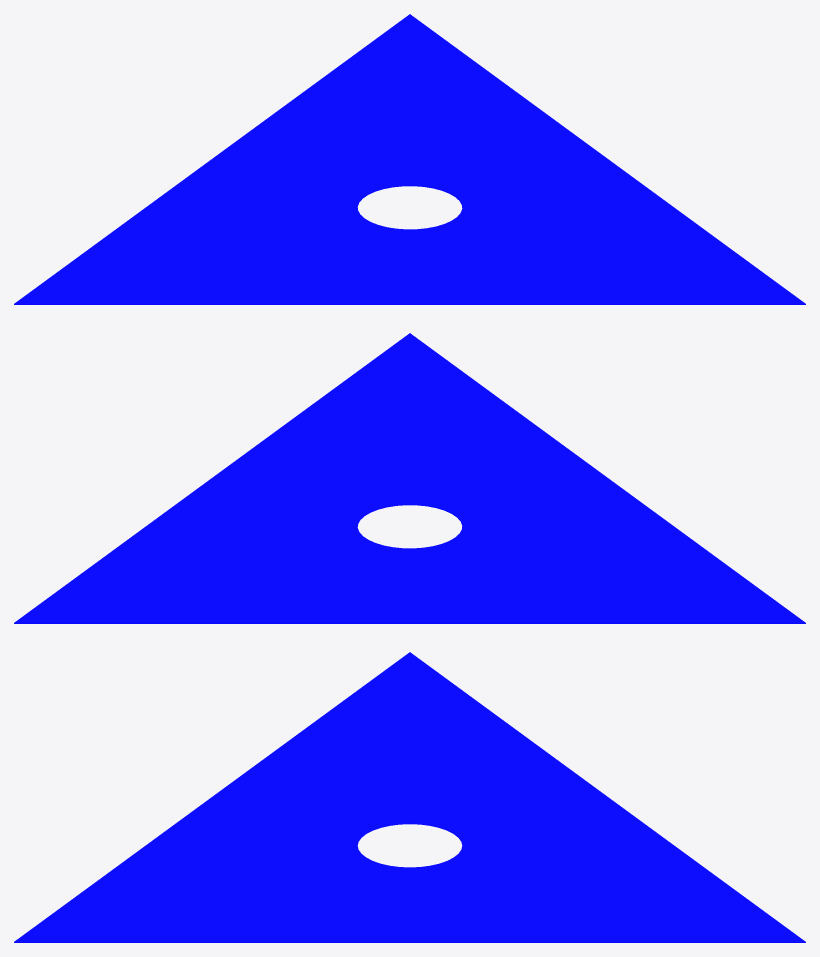
File: Triangle_Floor_Exit.fbx
The picture shows the model from 3 angles, top to bottom: view 1: azimuth 30°, elevation 25°; view 2: azimuth 150°, elevation 25°; view 3: azimuth 270°, elevation 25°; orthographic projection.
Parts seen in each view (by area): view 1: Triangle_Floor_Exit; view 2: Triangle_Floor_Exit; view 3: Triangle_Floor_Exit.
Boxes of the visible parts, x1,y1,x2,y2 form: Triangle_Floor_Exit: (14,14,805,304); Triangle_Floor_Exit: (14,333,805,623); Triangle_Floor_Exit: (14,652,805,942).
Size of what is drawn, in the model's own units: 5889 by 10 by 6800.
